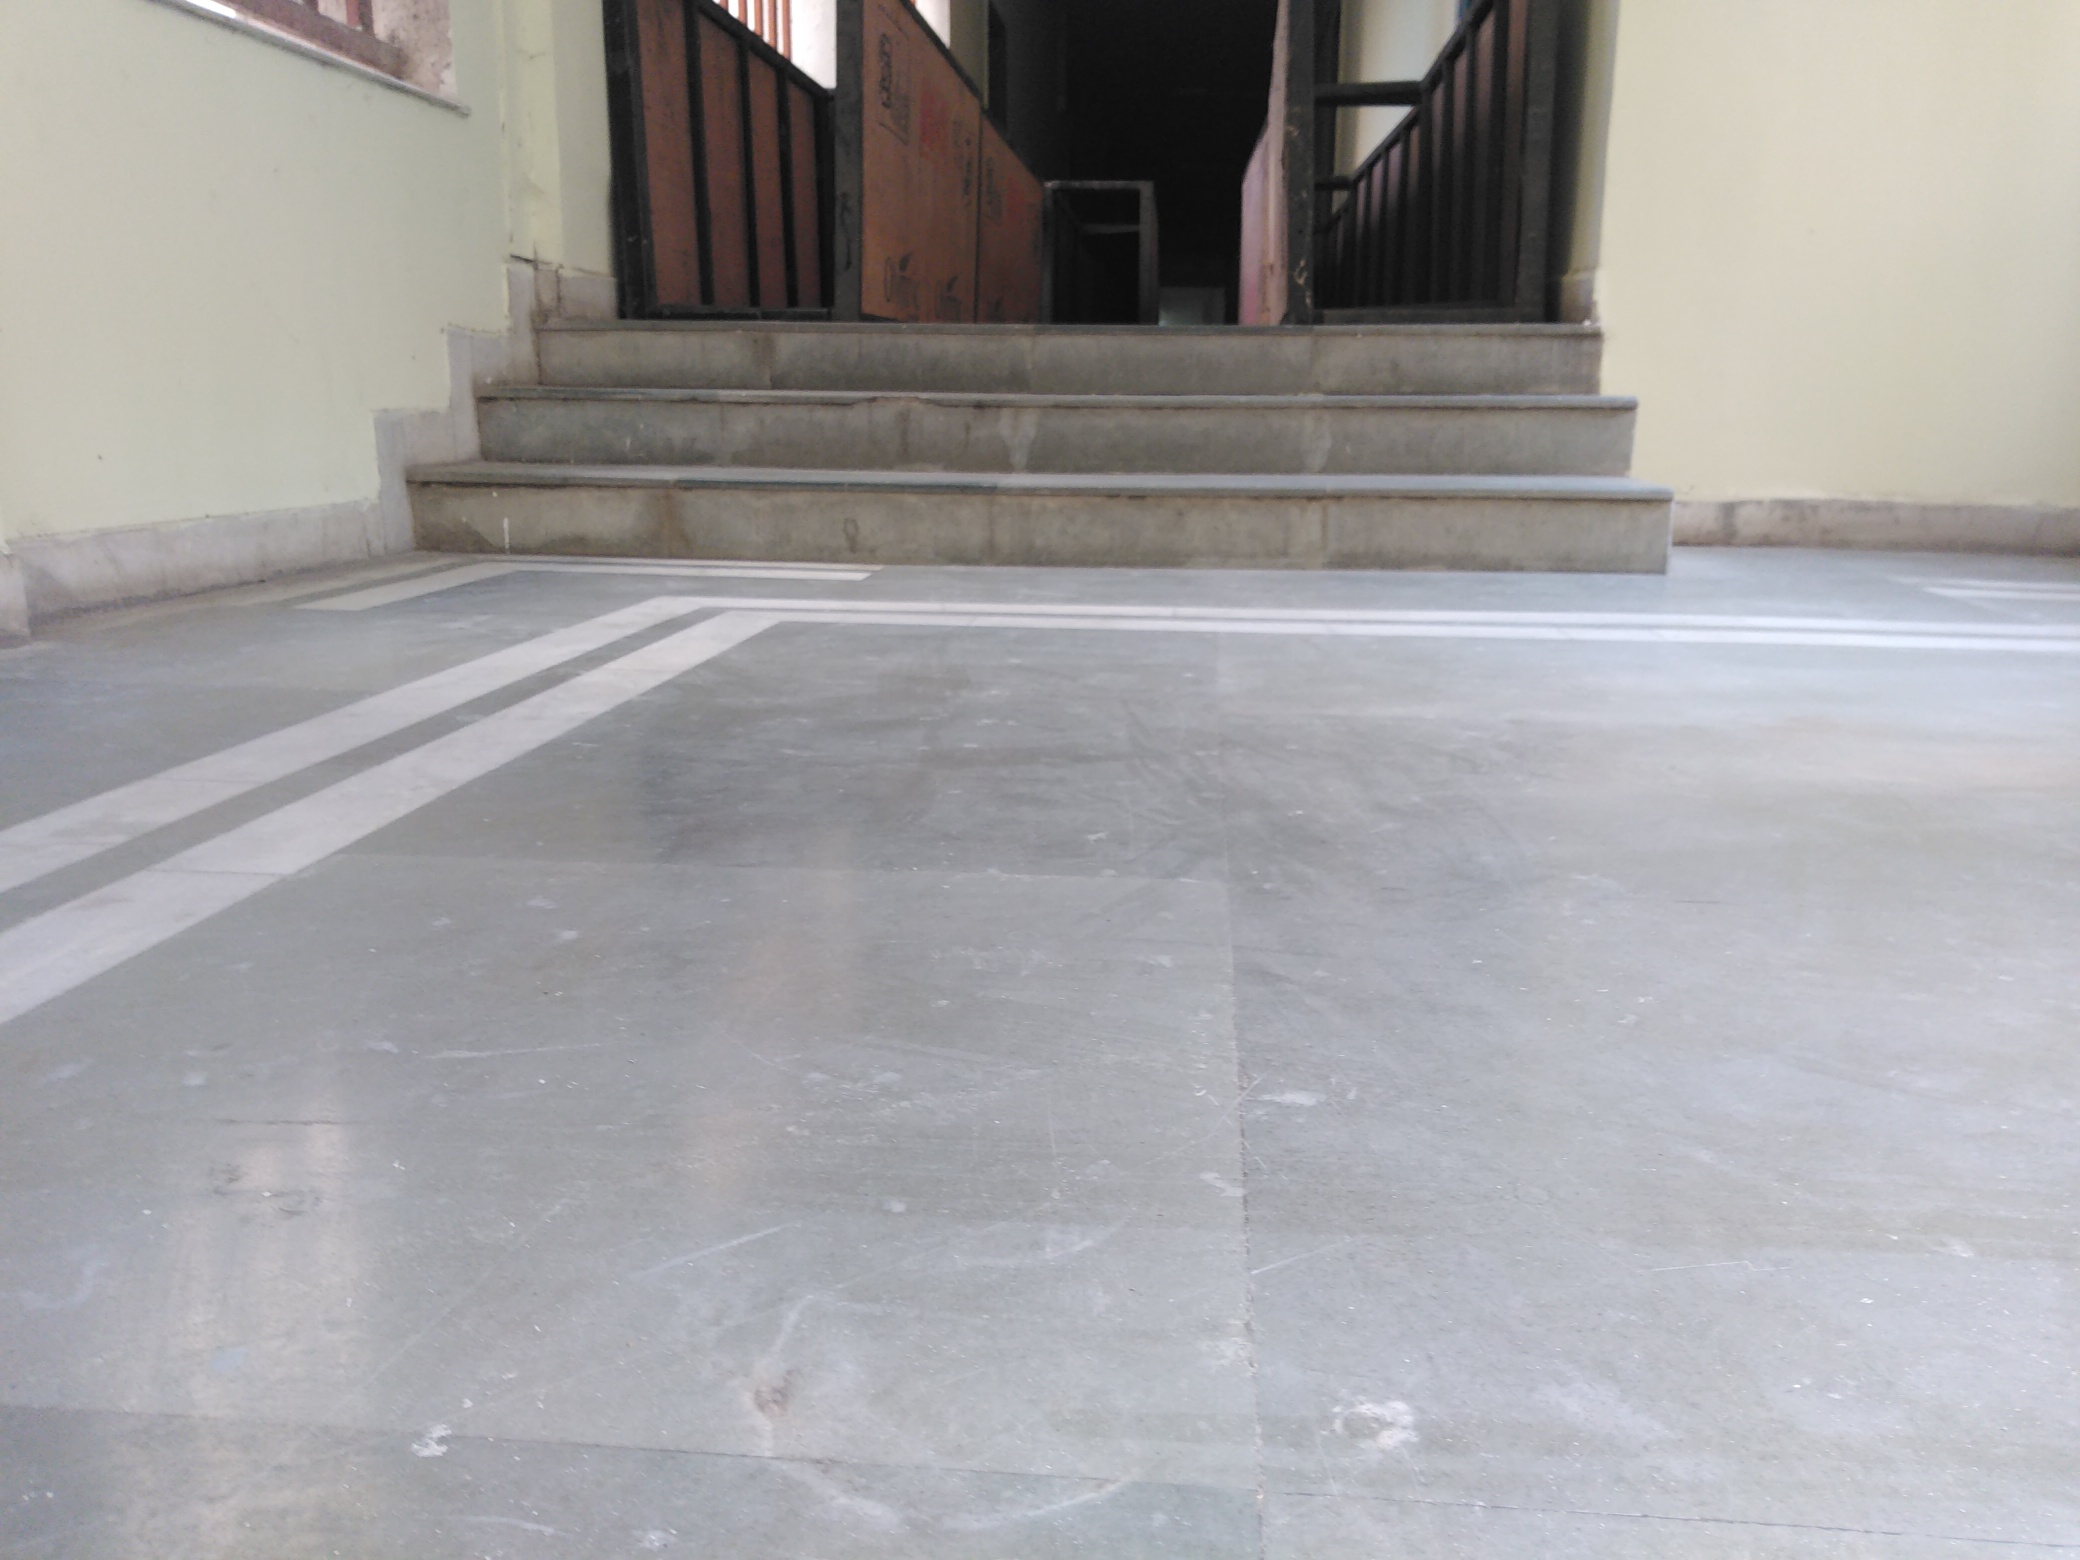stairs_up: (391, 306, 1690, 560)
